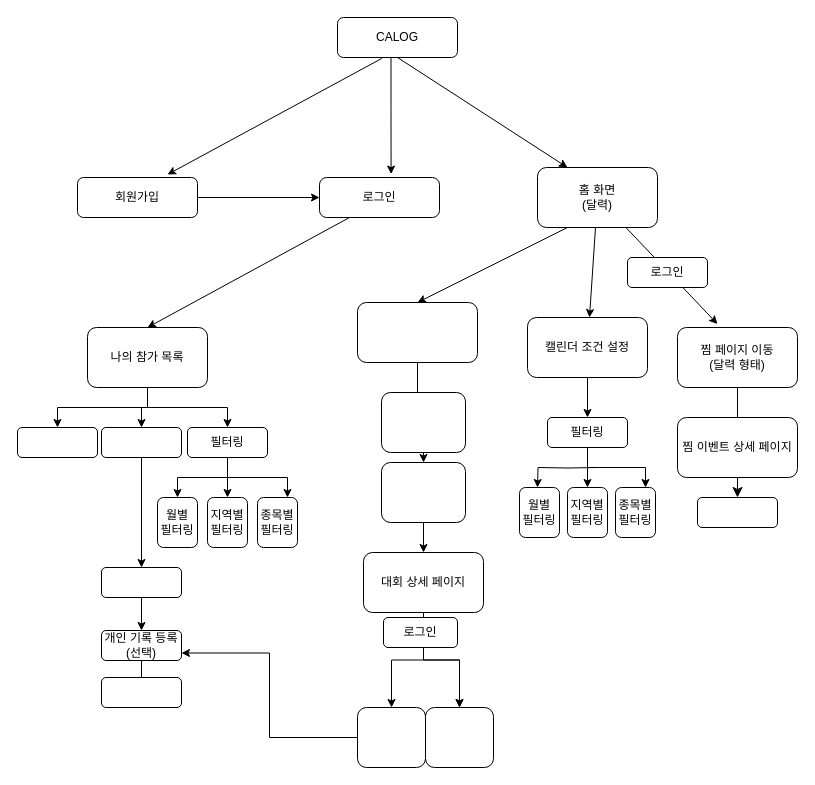
The diagram is 815 pixels wide and 785 high, and some of its shapes have lost their labels. The centre of each missing label's shape, as x and y in pixels:
"대회 등록" belongs at point 391,737.
"대회 선택" belongs at point 141,582.
"대회 찜" belongs at point 459,737.
"찜 삭제 가능" belongs at point 737,512.
"참여 대회 등록" belongs at point 141,442.
"코멘트 작성 (선택)" belongs at point 141,692.
"특정 날짜 선택" belongs at point 417,332.
"특정 대회 선택" belongs at point 423,492.
"해당일 대회 목록" belongs at point 423,422.
"회원 정보" belongs at point 57,442.
